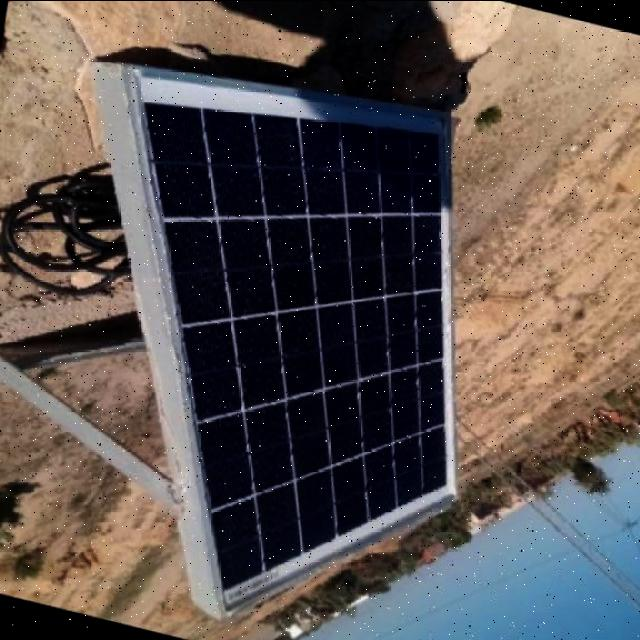Normal Solar Panel: (6, 30, 536, 640)
